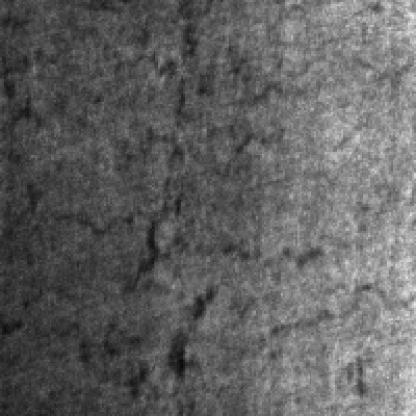crazing: (61, 190, 402, 362), (112, 4, 314, 178)
